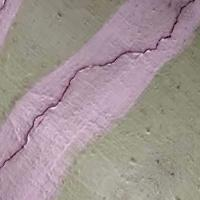crack: (3, 1, 194, 173)
